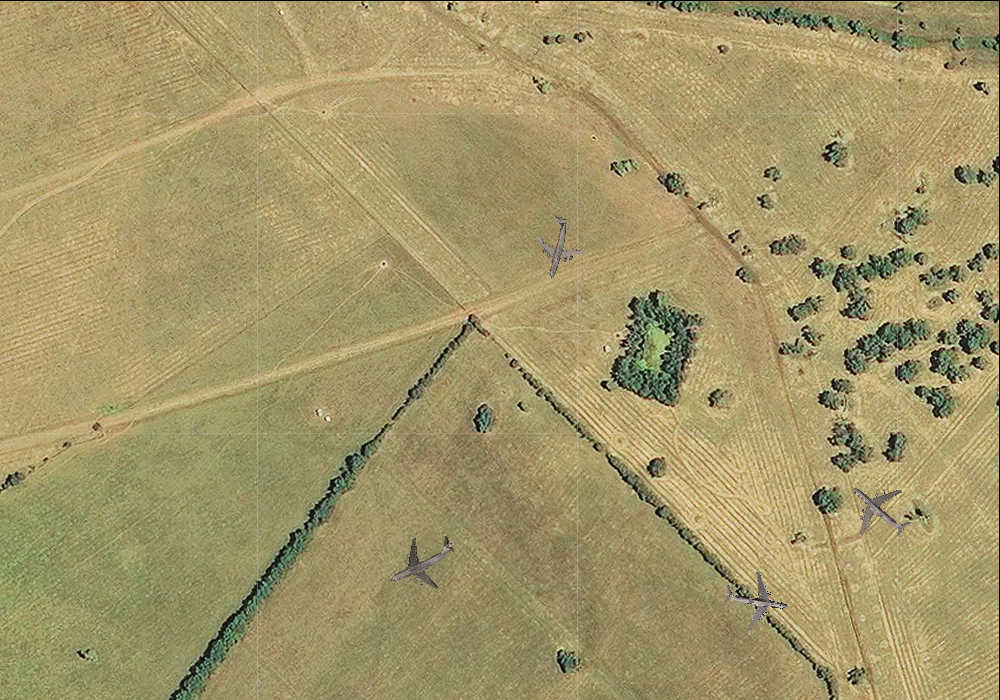plane: (833, 463, 925, 556), (374, 517, 468, 607), (521, 209, 592, 284), (719, 565, 793, 636)
